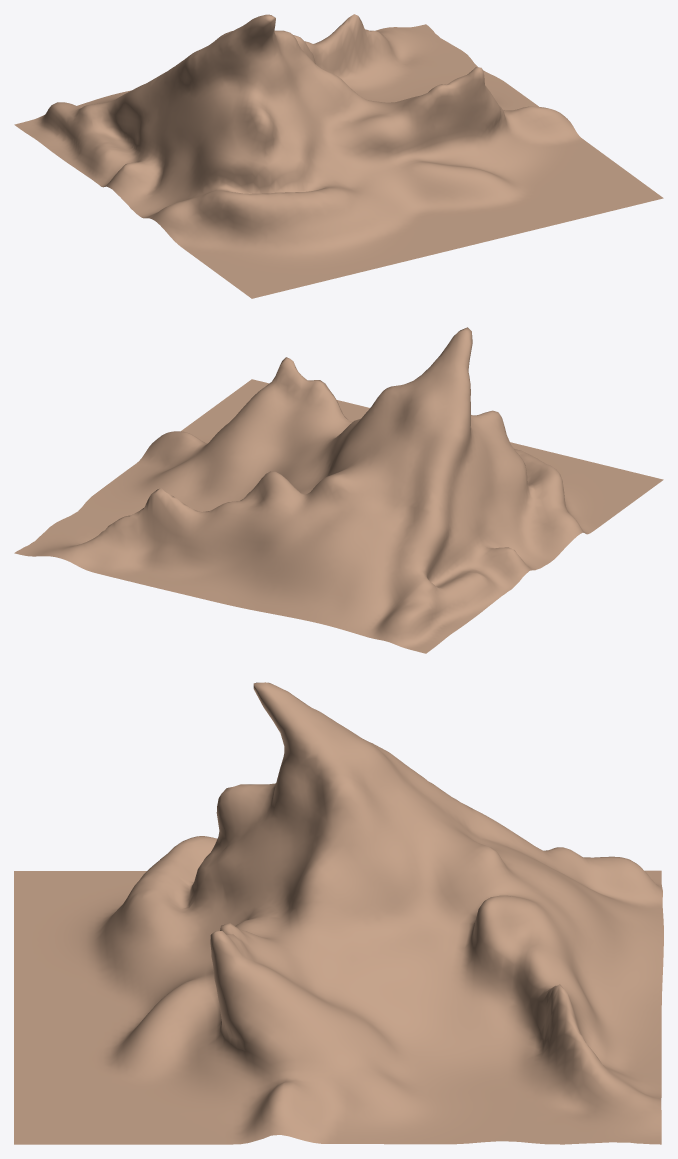
The model's file is Mountain2_Highpoly.fbx.
3 views of the same model, one above another, from view 1: azimuth 30°, elevation 25°; view 2: azimuth 150°, elevation 25°; view 3: azimuth 270°, elevation 25° (orthographic). The views are drawn at different scales.
Visible parts, largest first — view 1: plane_Copy; view 2: plane_Copy; view 3: plane_Copy.
Part boxes in pixels (x1,y1,x2,y2): plane_Copy: [14, 14, 663, 298]; plane_Copy: [14, 327, 663, 653]; plane_Copy: [14, 682, 663, 1144].
Bounding box in the file's own units: 305 × 133 × 301.
